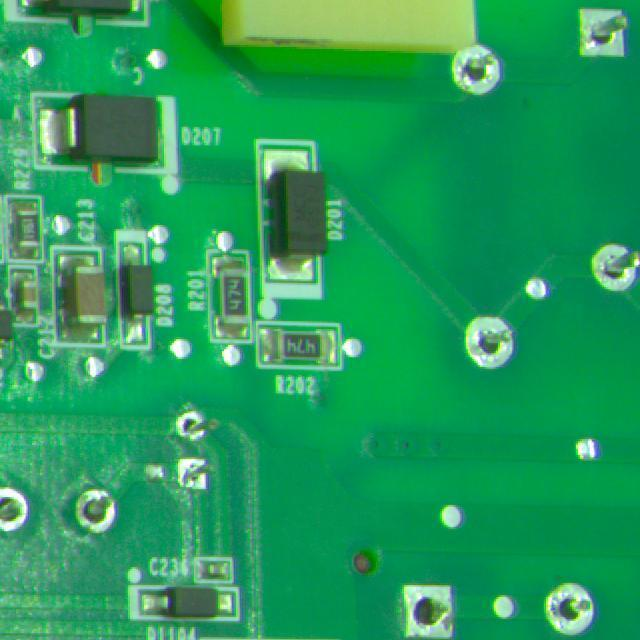Insufficient solder: (441, 28, 507, 104), (390, 572, 461, 640), (460, 304, 527, 373), (536, 574, 603, 640), (573, 0, 640, 62), (580, 231, 640, 296), (62, 483, 135, 535), (165, 395, 219, 447), (175, 449, 219, 499), (0, 483, 37, 529)
